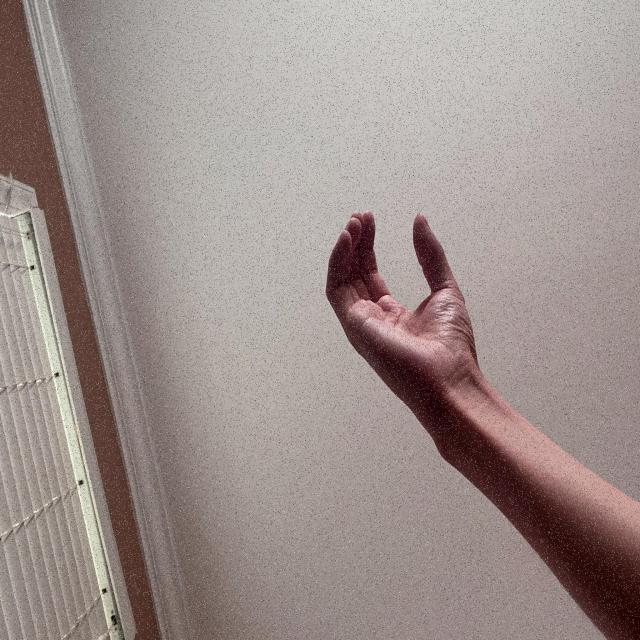C: (141, 427, 330, 640)
